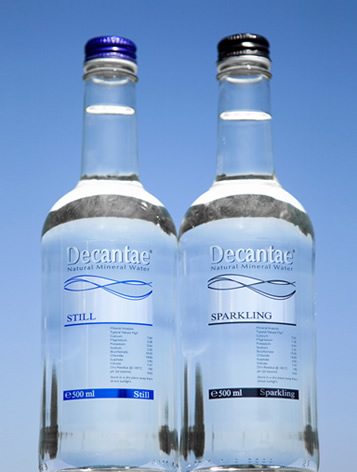glass of water: (168, 27, 329, 469), (36, 34, 187, 472)
